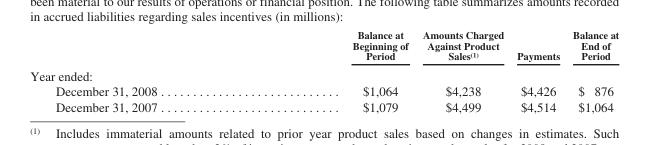table: (29, 28, 618, 113)
table column: (29, 28, 254, 113), (254, 28, 414, 113), (414, 28, 509, 113), (509, 28, 565, 113), (565, 28, 618, 113)
table column header: (29, 28, 618, 64)
table projected row header: (29, 64, 618, 83)
table row: (29, 28, 618, 64), (29, 64, 618, 83), (29, 83, 618, 98), (29, 98, 618, 113)
